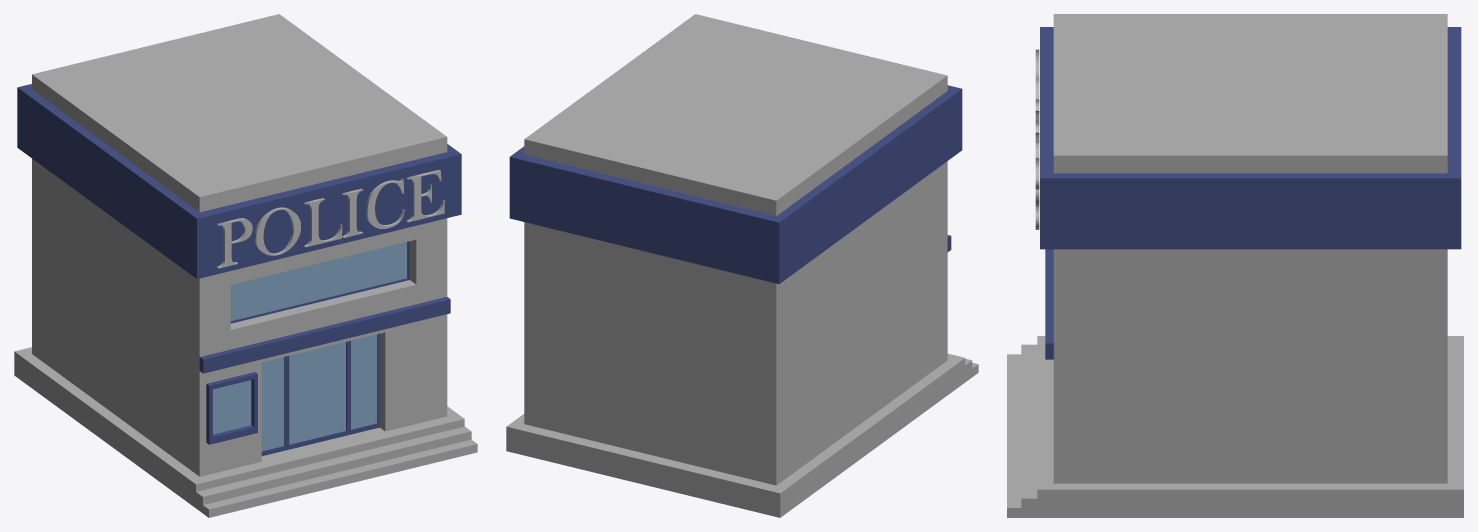
The model's file is Police Station.fbx.
The picture shows the model from 3 angles, left to right: view 1: azimuth 30°, elevation 25°; view 2: azimuth 150°, elevation 25°; view 3: azimuth 270°, elevation 25°; orthographic projection. The views are drawn at different scales.
Parts seen in each view (by area): view 1: Cube.044, Text.005; view 2: Cube.044; view 3: Cube.044, Text.005.
Boxes of the visible parts, x1=… form: Cube.044: x1=14, y1=14, x2=477, y2=517; Text.005: x1=217, y1=169, x2=444, y2=268; Cube.044: x1=506, y1=14, x2=978, y2=517; Cube.044: x1=1007, y1=14, x2=1463, y2=517; Text.005: x1=1035, y1=49, x2=1039, y2=229.
Bounding box in the file's own units: 42556 × 45958 × 53404.
